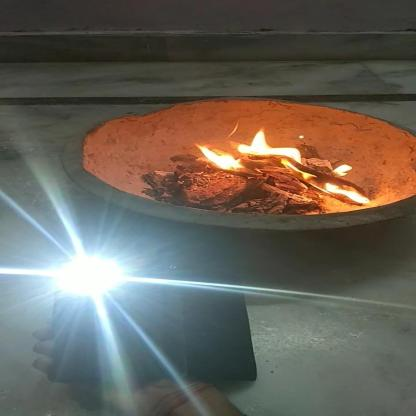fire: (188, 127, 378, 205)
